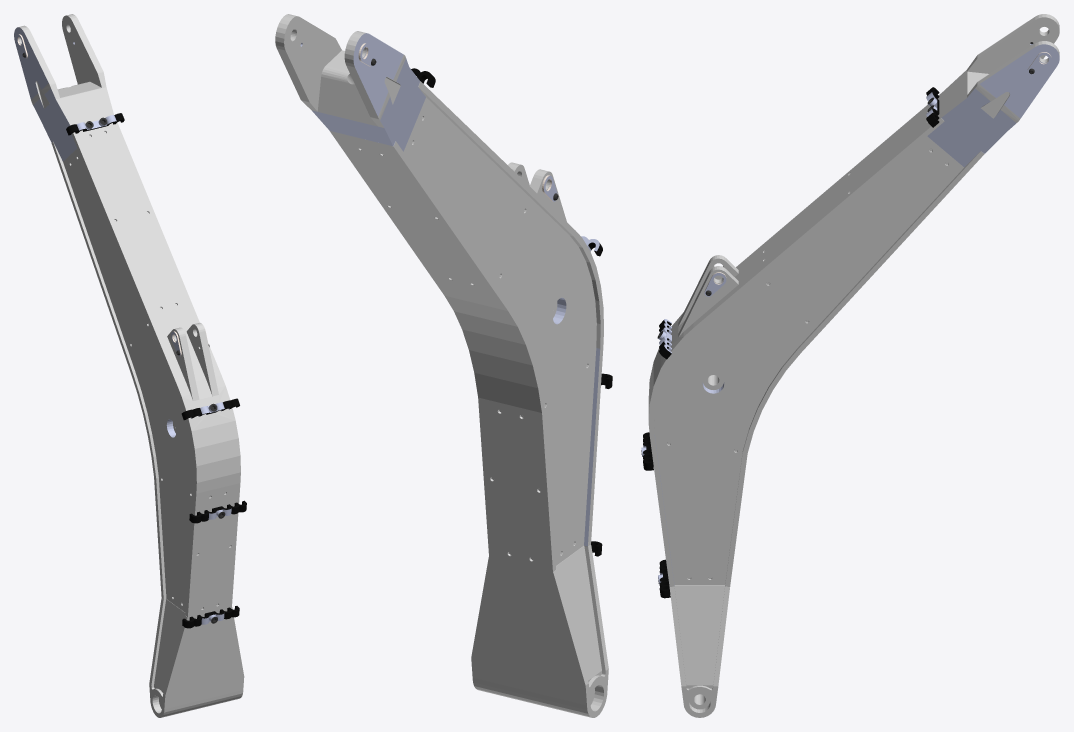
File: lift_boom_Mesh.obj
3 views of the same model, side by side, from view 1: azimuth 30°, elevation 25°; view 2: azimuth 150°, elevation 25°; view 3: azimuth 270°, elevation 25° (orthographic). The views are drawn at different scales.
Bounding box in the file's own units: 0.0629 × 0.439 × 0.2499.
